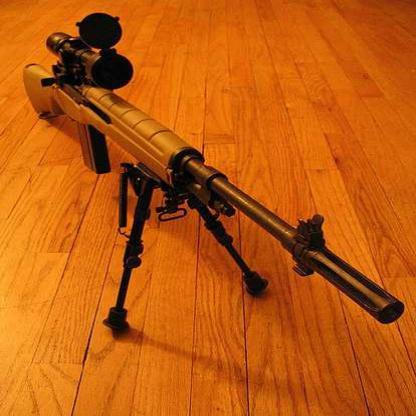rifle: (18, 9, 415, 351)
